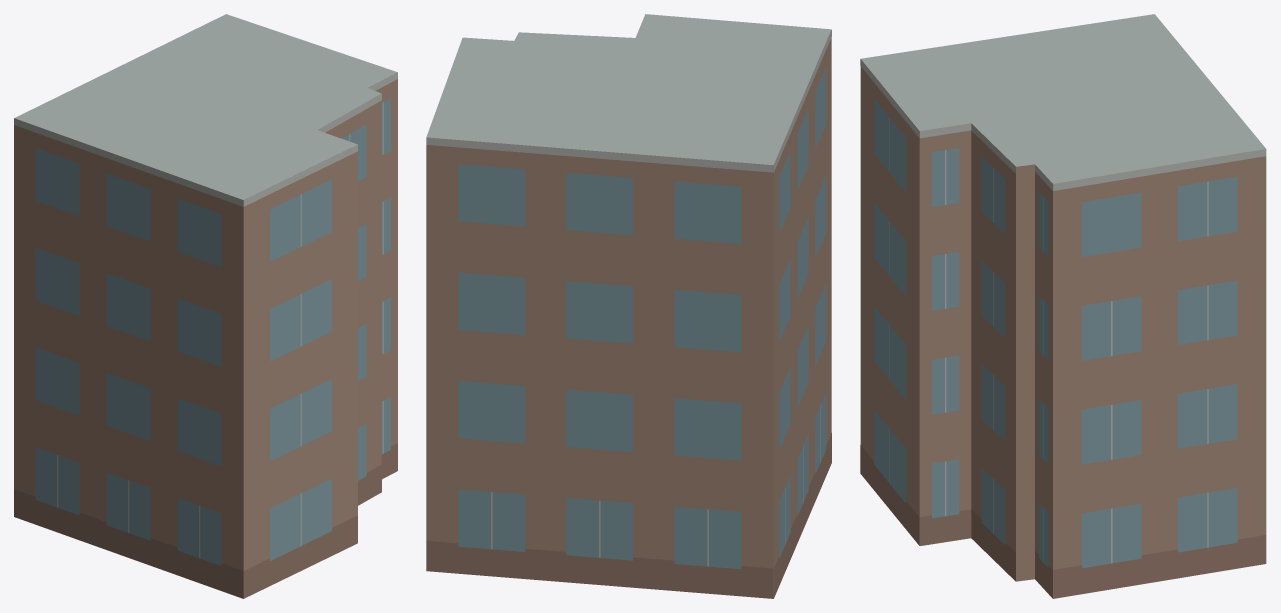
Rendered from survey-upis-32867744.glb.
3 views of the same model, side by side, from view 1: azimuth 30°, elevation 25°; view 2: azimuth 150°, elevation 25°; view 3: azimuth 270°, elevation 25° (orthographic). The views are drawn at different scales.
Visible parts, largest first — view 1: survey-upis-32867744.tmp; view 2: survey-upis-32867744.tmp; view 3: survey-upis-32867744.tmp.
Boxes of the visible parts, x1,y1,x2,y2 form: survey-upis-32867744.tmp: [14, 14, 397, 598]; survey-upis-32867744.tmp: [426, 14, 831, 598]; survey-upis-32867744.tmp: [860, 14, 1266, 598].
Size of the model in its own units: 12.53 by 14.25 by 12.65.
